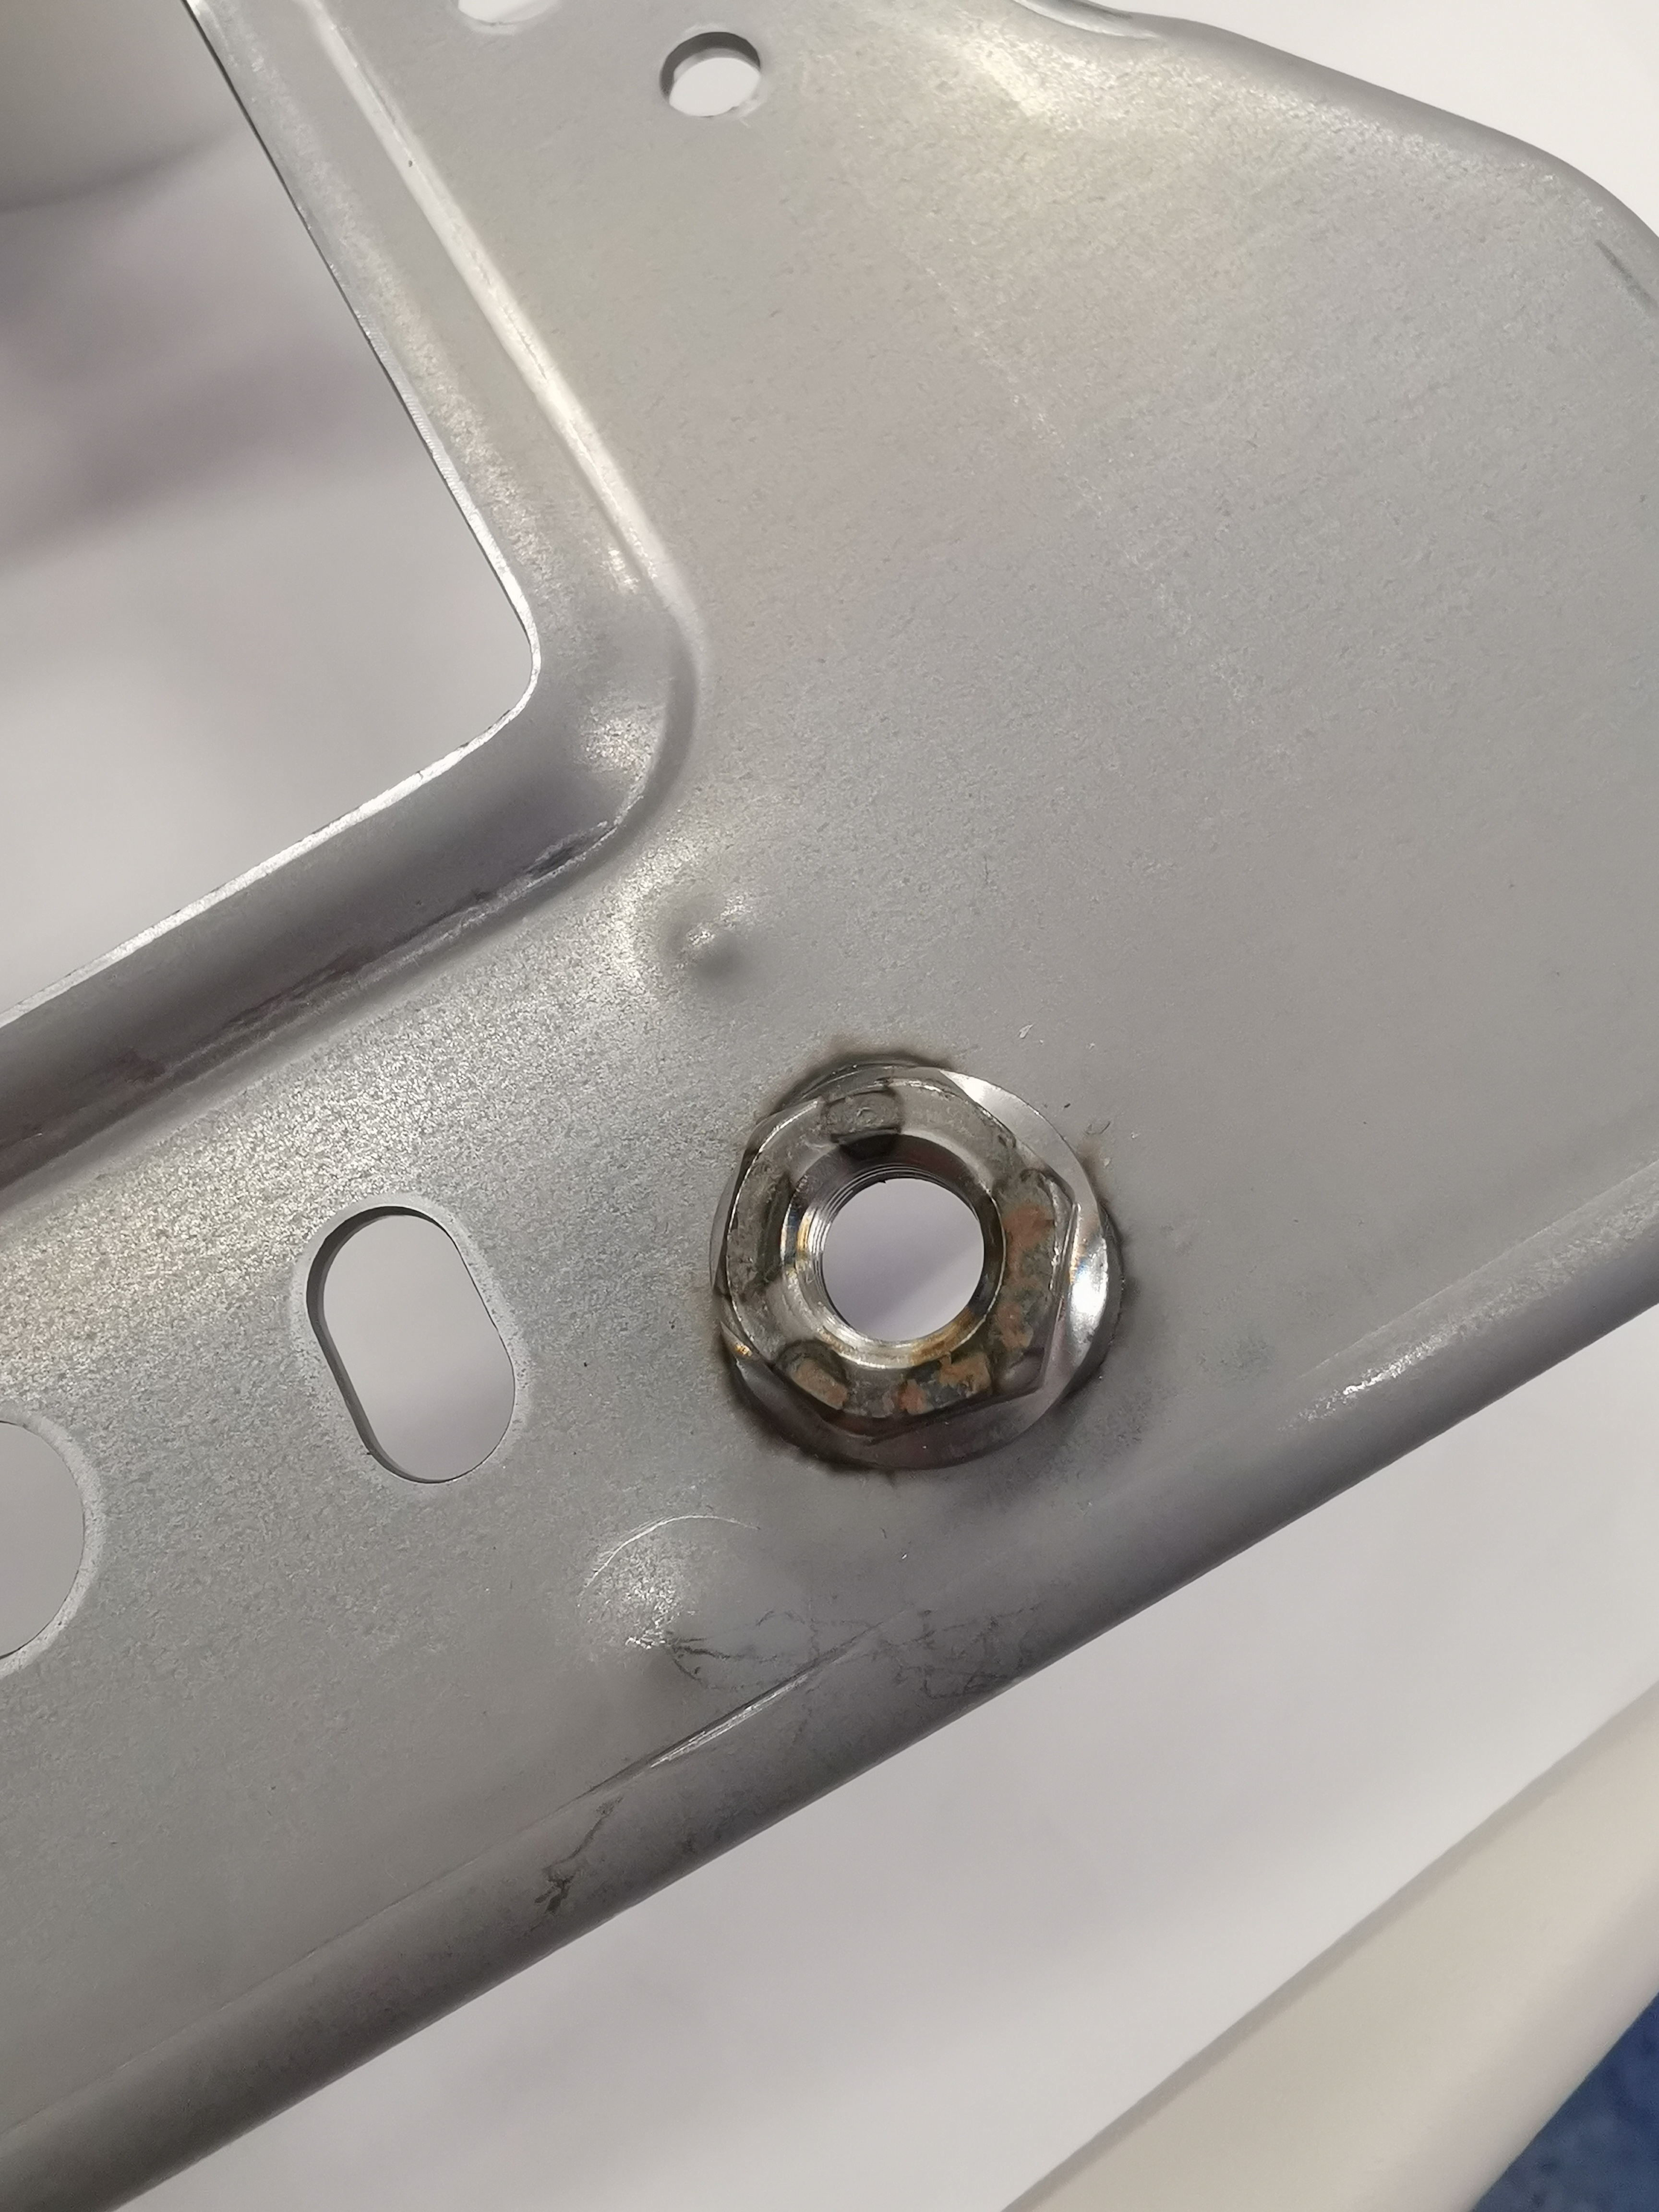dog: (694, 1033, 1133, 1486)
